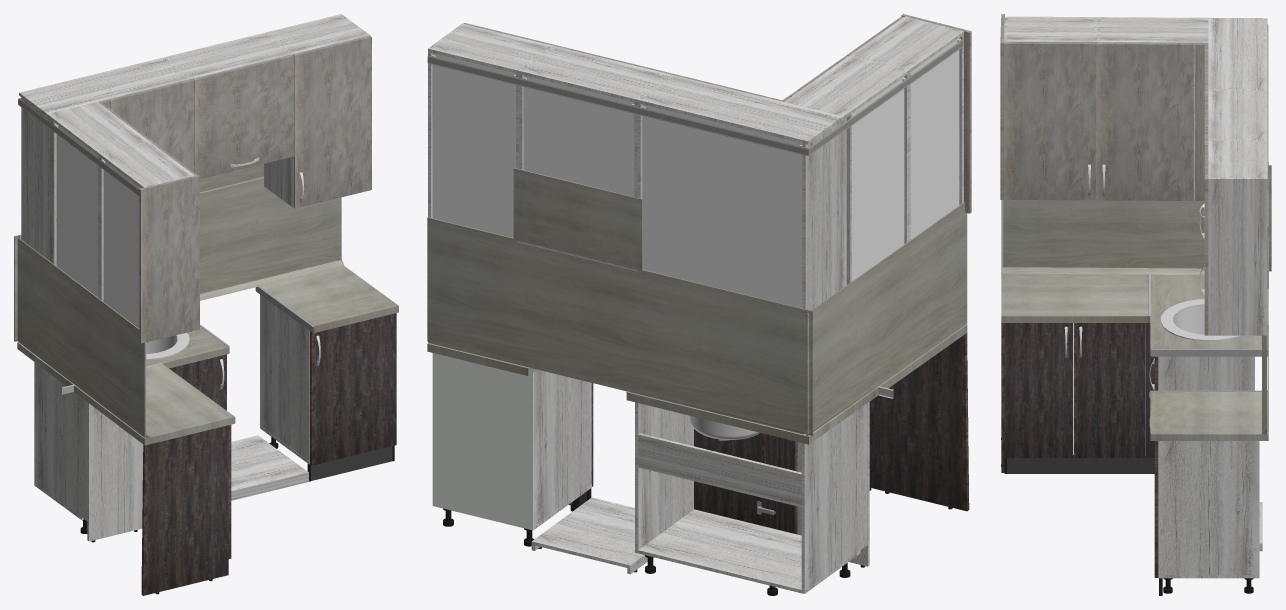
3 renders of one model, left to right at view 1: azimuth 30°, elevation 25°; view 2: azimuth 150°, elevation 25°; view 3: azimuth 270°, elevation 25°, orthographic. The views are drawn at different scales.
Parts seen in each view (by area): view 1: node_0035, node_0011, node_0036, node_0080, node_0034, node_0072, node_0047, node_0028, node_0017, node_0010, node_0052, node_0039 (+22 smaller); view 2: node_0036, node_0061, node_0035, node_0030, node_0077, node_0011, node_0070, node_0017, node_0040, node_0052, node_0014, node_0045 (+24 smaller); view 3: node_0055, node_0049, node_0035, node_0029, node_0013, node_0012, node_0074, node_0037, node_0039, node_0059, node_0021, node_0038 (+15 smaller).
Boxes of the visible parts, x1=… form: node_0035: x1=17, y1=237, x2=145, y2=436; node_0011: x1=141, y1=425, x2=228, y2=595; node_0036: x1=14, y1=176, x2=341, y2=341; node_0080: x1=293, y1=36, x2=371, y2=208; node_0034: x1=310, y1=313, x2=396, y2=465; node_0072: x1=193, y1=54, x2=294, y2=179; node_0047: x1=139, y1=175, x2=199, y2=343; node_0028: x1=260, y1=295, x2=309, y2=461; node_0017: x1=34, y1=362, x2=87, y2=520; node_0010: x1=87, y1=402, x2=143, y2=541; node_0052: x1=56, y1=124, x2=98, y2=297; node_0039: x1=255, y1=266, x2=398, y2=332; node_0036: x1=427, y1=217, x2=813, y2=435; node_0061: x1=642, y1=104, x2=802, y2=308; node_0035: x1=806, y1=202, x2=966, y2=435; node_0030: x1=432, y1=353, x2=533, y2=530; node_0077: x1=432, y1=53, x2=515, y2=237; node_0011: x1=869, y1=333, x2=969, y2=511; node_0070: x1=523, y1=75, x2=634, y2=196; node_0017: x1=801, y1=403, x2=867, y2=590; node_0040: x1=513, y1=168, x2=642, y2=269; node_0052: x1=852, y1=77, x2=904, y2=281; node_0014: x1=635, y1=509, x2=860, y2=593; node_0045: x1=910, y1=38, x2=959, y2=239; node_0055: x1=1097, y1=42, x2=1193, y2=200; node_0049: x1=1004, y1=42, x2=1096, y2=200; node_0035: x1=1003, y1=165, x2=1271, y2=271; node_0029: x1=1158, y1=441, x2=1258, y2=575; node_0013: x1=1001, y1=323, x2=1073, y2=458; node_0012: x1=1074, y1=323, x2=1145, y2=458; node_0074: x1=1208, y1=177, x2=1267, y2=335; node_0037: x1=1001, y1=273, x2=1149, y2=322; node_0039: x1=1150, y1=392, x2=1268, y2=440; node_0059: x1=1208, y1=17, x2=1267, y2=88; node_0021: x1=1158, y1=356, x2=1254, y2=390; node_0038: x1=1150, y1=274, x2=1267, y2=356.
Bounding box in the file's own units: 2.01 × 2.33 × 1.37.
Materials: 29 (9 with a texture image).
